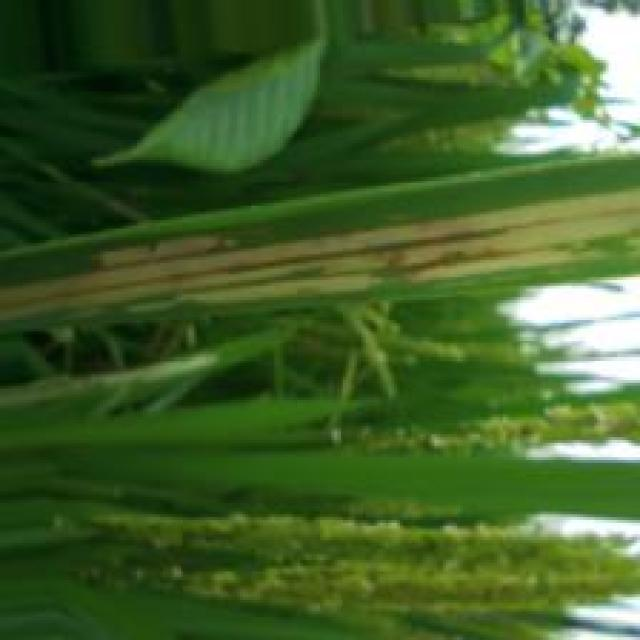Rice_Hispa: (0, 185, 640, 316)
